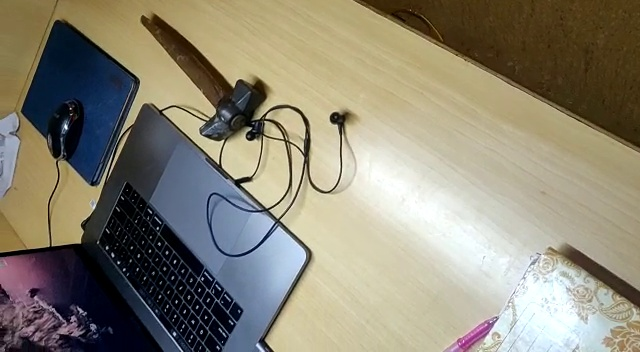hammer: (139, 13, 263, 143)
